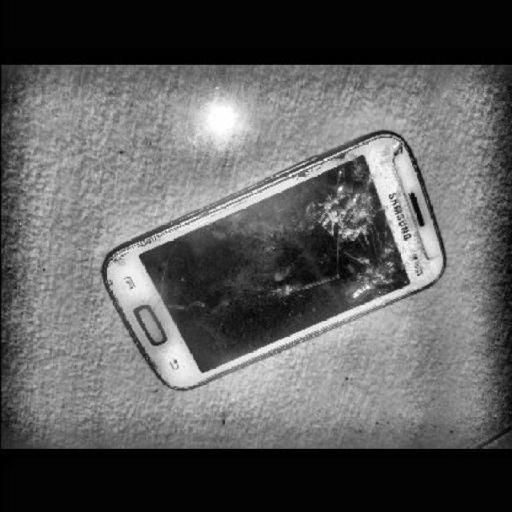phone: (95, 128, 458, 397)
